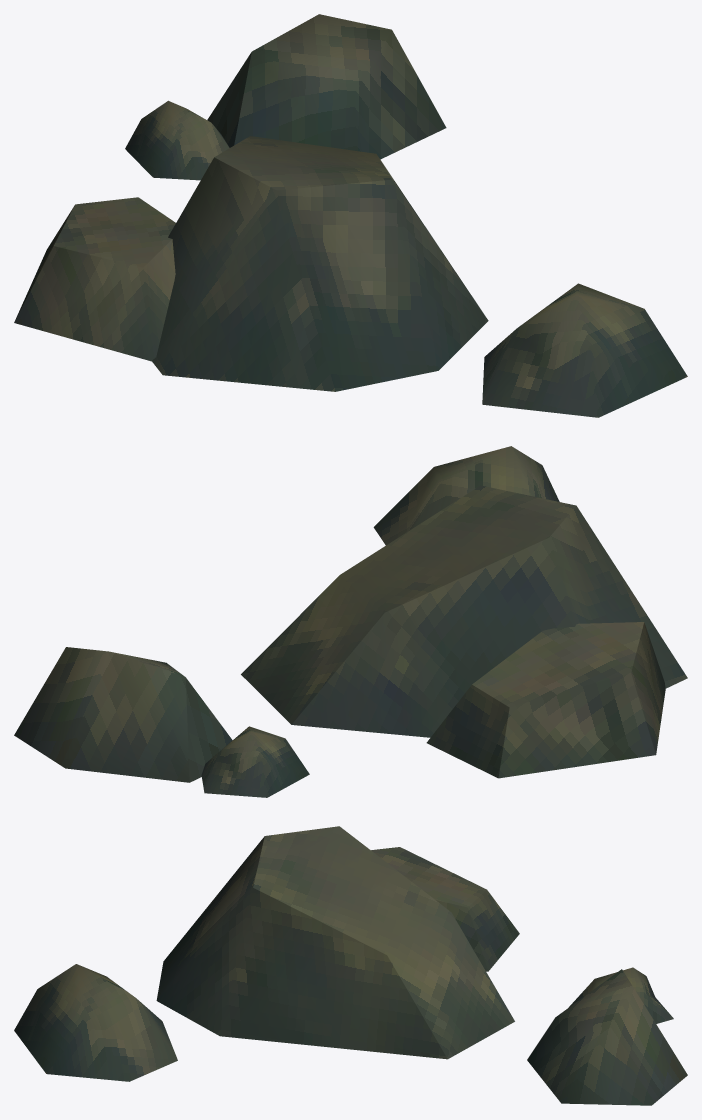
Rendered from stone_01.FBX.
The picture shows the model from 3 angles, top to bottom: view 1: azimuth 30°, elevation 25°; view 2: azimuth 150°, elevation 25°; view 3: azimuth 270°, elevation 25°; orthographic projection. The views are drawn at different scales.
Visible parts, largest first — view 1: stone_01; view 2: stone_01; view 3: stone_01.
Boxes of the visible parts, left/top/right/bottom form: stone_01: left=14, top=14, right=687, bottom=417; stone_01: left=14, top=446, right=687, bottom=797; stone_01: left=14, top=826, right=687, bottom=1105.
Size of the model in its own units: 668 by 900 by 193.
